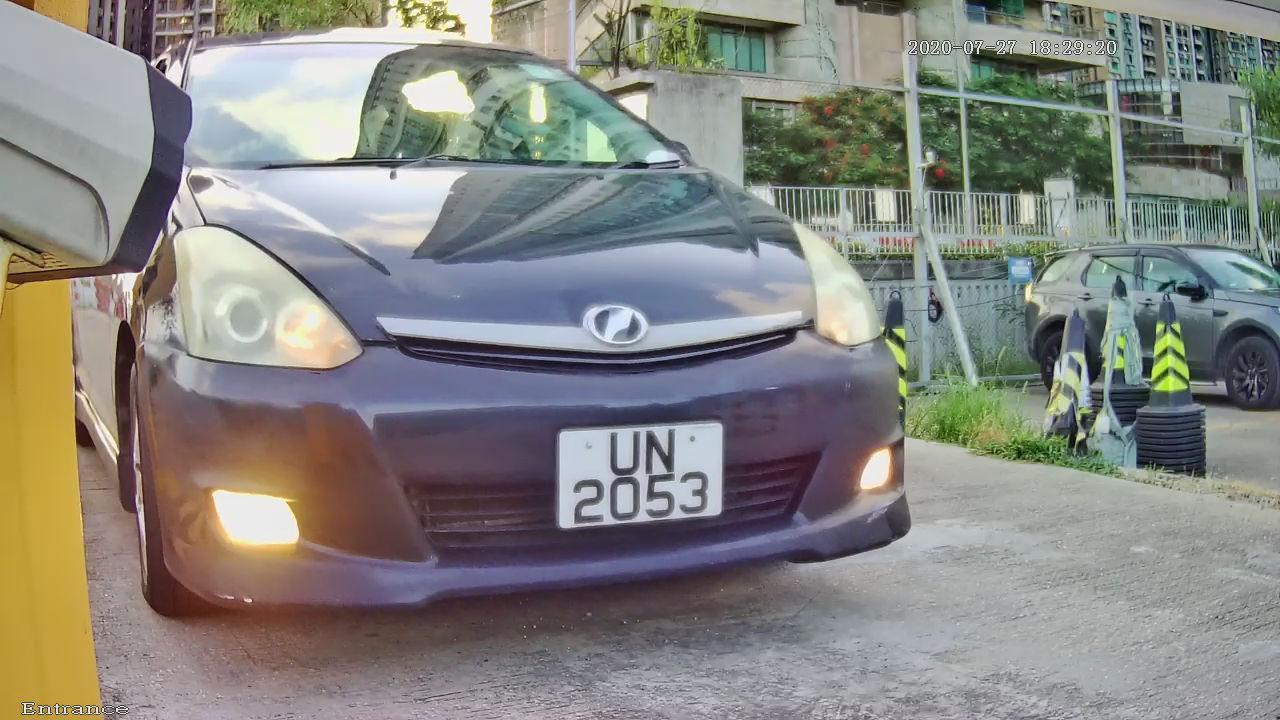privatecar: (41, 17, 1001, 647)
